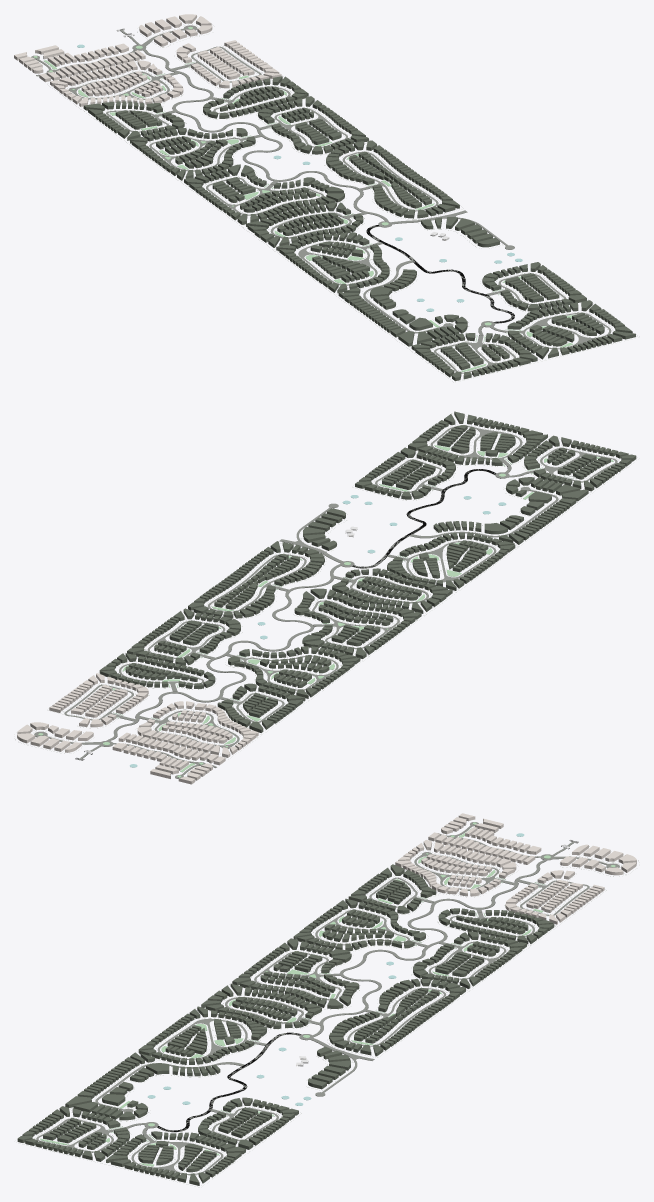
File: SELVA3D.glb
3 views of the same model, one above another, from view 1: azimuth 30°, elevation 25°; view 2: azimuth 150°, elevation 25°; view 3: azimuth 330°, elevation 25° (orthographic).
Visible parts, largest first — view 1: mesh (×2); view 2: mesh (×2); view 3: mesh.
Part boxes in pixels (x1=…): mesh (×2): x1=143, y1=49, x2=514, y2=323; mesh (×2): x1=107, y1=469, x2=496, y2=741; mesh: x1=313, y1=859, x2=547, y2=1036.
Bounding box in the file's own units: 500 × 14.08 × 2080.
